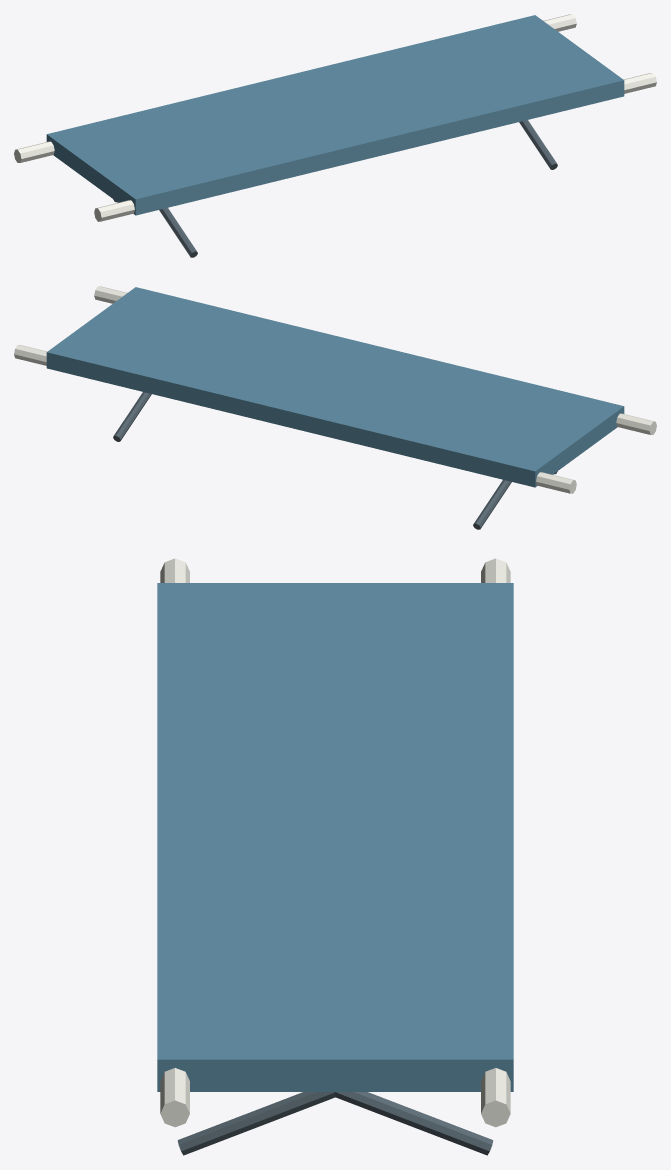
Rendered from stretcher.glb.
3 views of the same model, one above another, from view 1: azimuth 30°, elevation 25°; view 2: azimuth 150°, elevation 25°; view 3: azimuth 270°, elevation 25° (orthographic). The views are drawn at different scales.
Visible parts, largest first — view 1: folding-stretcher; view 2: folding-stretcher; view 3: folding-stretcher.
Boxes of the visible parts, bbox=[...] form: folding-stretcher: bbox=[14, 14, 656, 257]; folding-stretcher: bbox=[14, 286, 656, 529]; folding-stretcher: bbox=[157, 558, 513, 1155].
Size of the model in its own units: 2.16 by 0.2938 by 0.6001.
